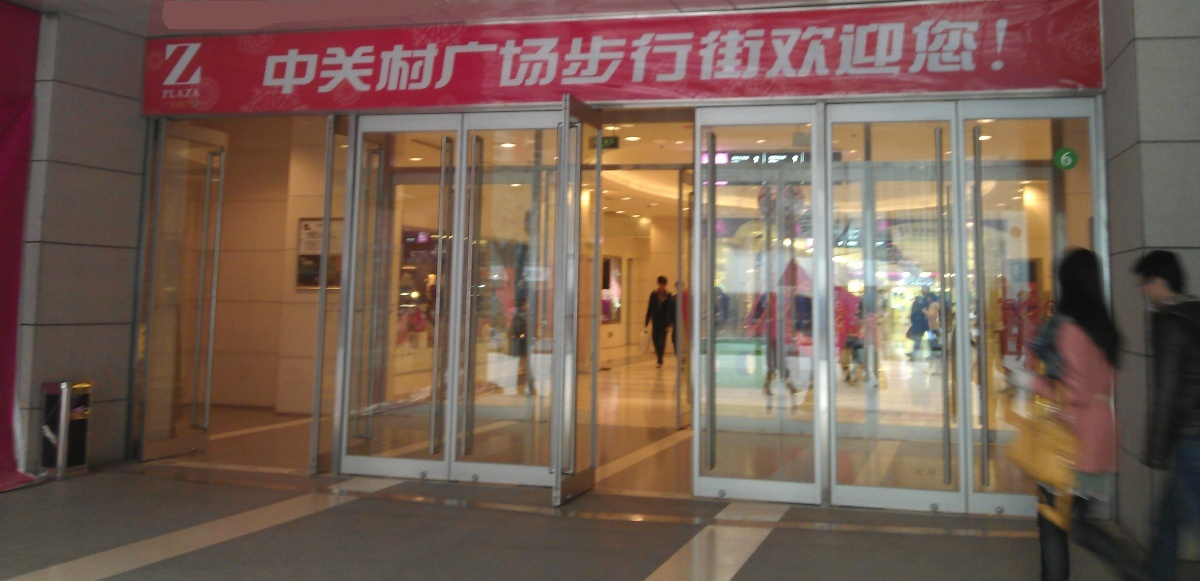text: (273, 17, 288, 95), (289, 17, 304, 95), (305, 17, 320, 95), (321, 17, 336, 95), (337, 17, 352, 95), (353, 17, 368, 95), (369, 17, 384, 95), (385, 17, 400, 95), (401, 17, 416, 95), (417, 17, 432, 95), (433, 17, 448, 95), (449, 17, 464, 95), (465, 17, 480, 95), (481, 17, 496, 95), (497, 17, 512, 95), (513, 17, 528, 95), (529, 17, 544, 95), (545, 17, 560, 95), (561, 17, 576, 95), (577, 17, 592, 95), (593, 17, 608, 95), (609, 17, 624, 95), (625, 17, 640, 95), (641, 17, 656, 95), (657, 17, 672, 95), (673, 17, 688, 95), (689, 17, 704, 95), (705, 17, 720, 95), (721, 17, 736, 95), (737, 17, 752, 95), (753, 17, 768, 95), (769, 17, 784, 95), (785, 17, 800, 95), (801, 17, 816, 95), (817, 17, 832, 95), (833, 17, 848, 95), (849, 17, 864, 95), (865, 17, 880, 95), (881, 17, 896, 95), (897, 17, 912, 95), (913, 17, 928, 95), (929, 17, 944, 95), (945, 17, 960, 95), (961, 17, 976, 95), (977, 17, 992, 95), (993, 17, 1008, 95), (1009, 17, 1020, 95), (177, 42, 192, 87), (164, 42, 176, 87), (193, 42, 203, 87), (268, 17, 272, 95), (1061, 151, 1072, 169), (177, 88, 192, 99), (162, 88, 176, 99), (193, 88, 202, 99)
